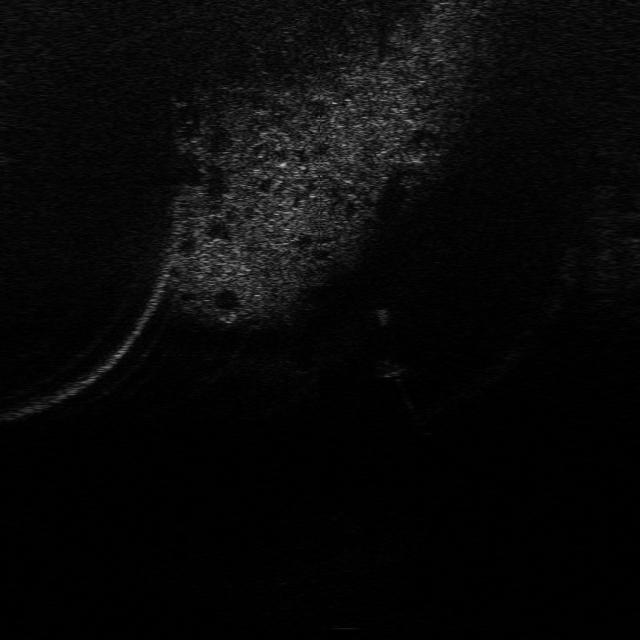cube: (373, 356, 409, 382)
cylinder: (369, 300, 392, 330)
